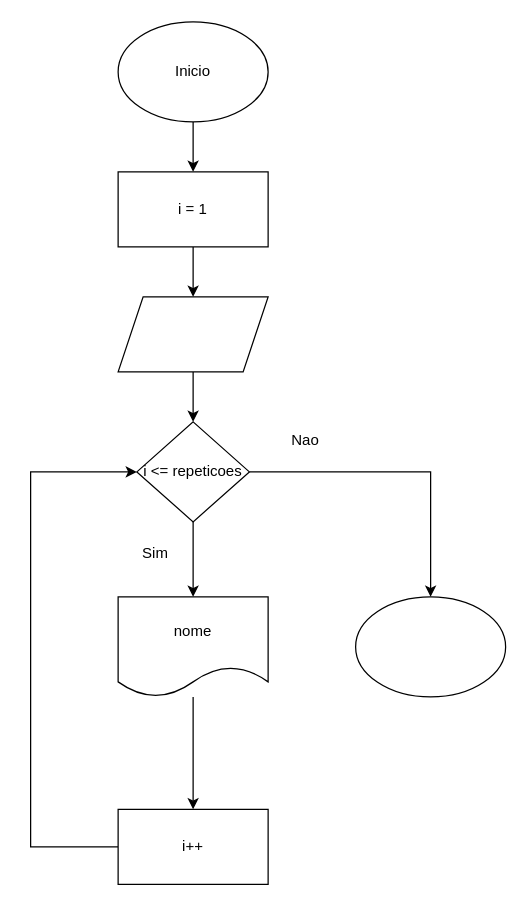
Image size: 528x906. Some labels were removed from this diagram. Each missing label, with the centre of its shape:
Fim: point (430, 646)
nome, repeticoes: point (192, 334)
